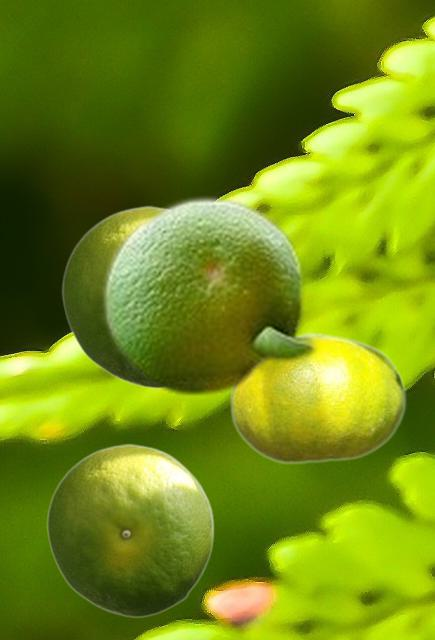dalandan: (100, 193, 319, 396), (46, 443, 213, 617), (229, 332, 405, 464), (61, 205, 158, 388)
